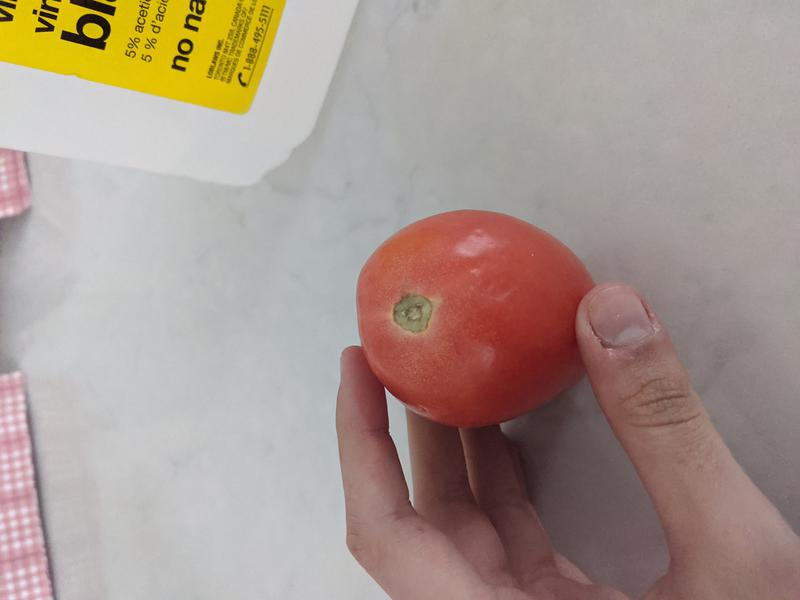tomato: (355, 209, 599, 429)
